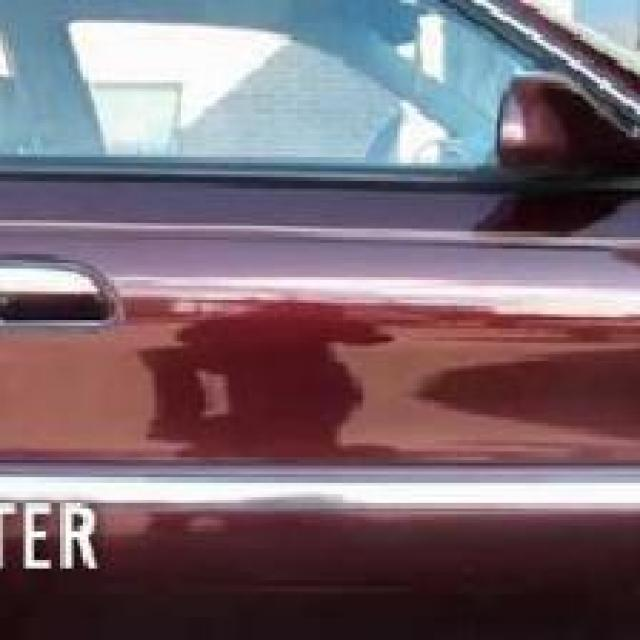damaged: (142, 294, 638, 474)
